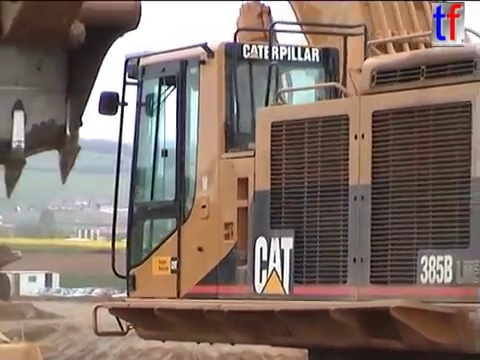excavator: (1, 1, 480, 360)
truck: (1, 240, 24, 304)
